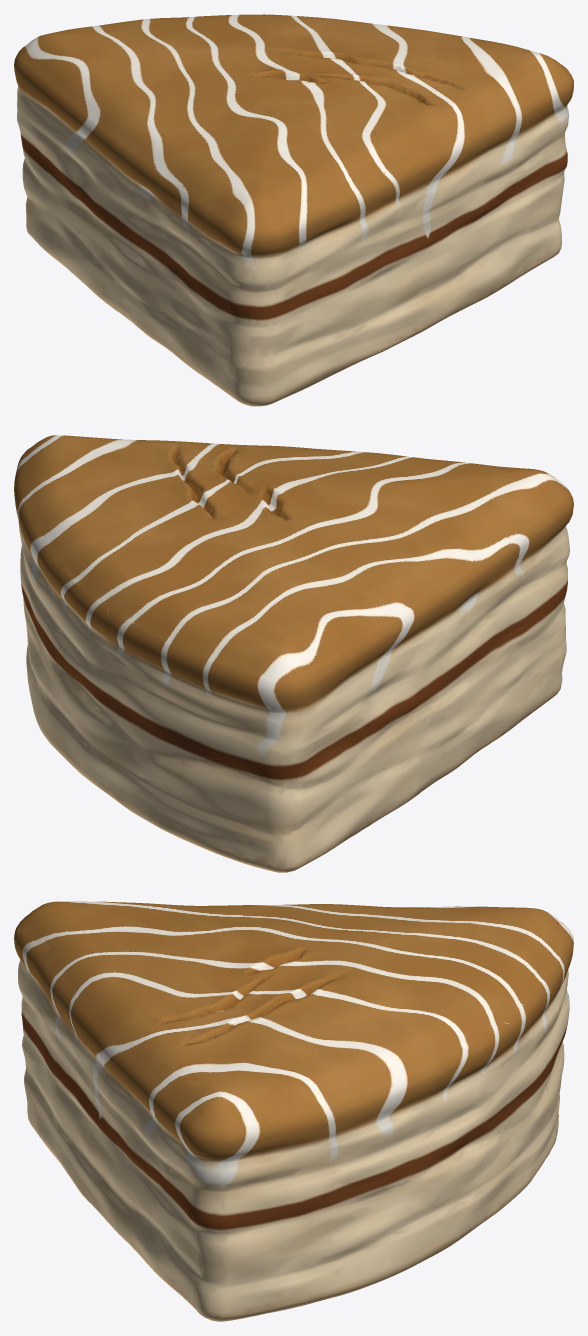
Rendered from scone--cinnamon-ground.glb.
3 renders of one model, top to bottom at view 1: azimuth 30°, elevation 25°; view 2: azimuth 150°, elevation 25°; view 3: azimuth 270°, elevation 25°, orthographic. The views are drawn at different scales.
Visible parts, largest first — view 1: scone_cinnamon-ground; view 2: scone_cinnamon-ground; view 3: scone_cinnamon-ground.
Part boxes in pixels (x1,y1,x2,y2): scone_cinnamon-ground: (14,14,573,406); scone_cinnamon-ground: (14,435,573,872); scone_cinnamon-ground: (14,901,573,1321).
Bounding box in the file's own units: 0.941 × 0.4648 × 0.9871.
Materials: 1 (1 with a texture image).
